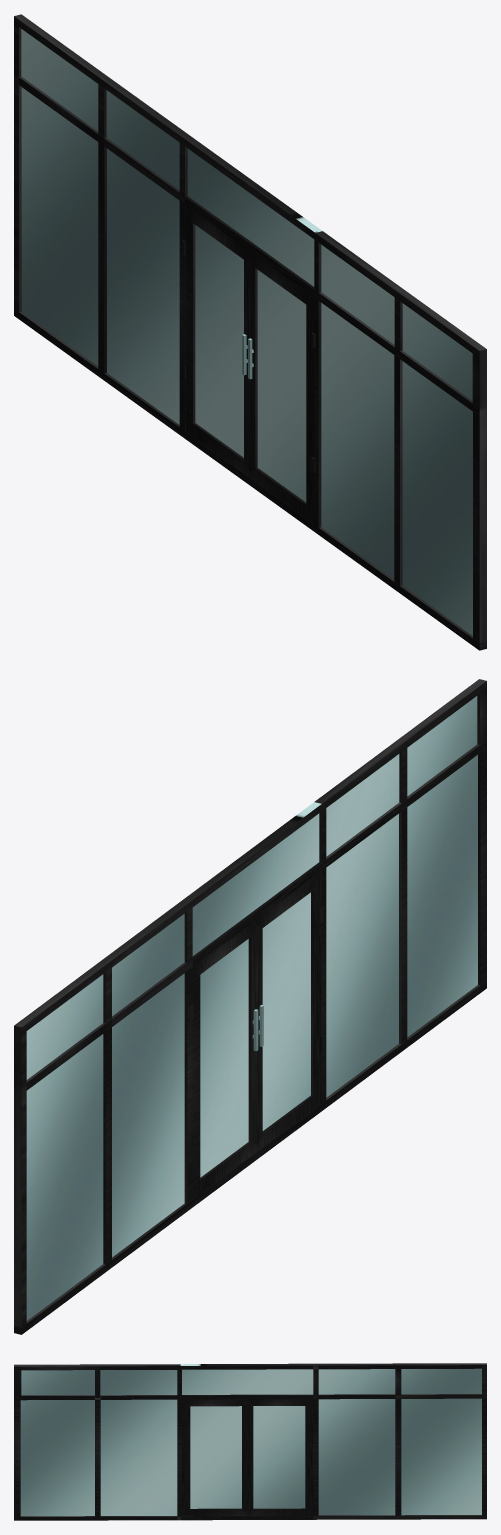
The model's file is tavern_glass_door_wall.fbx.
3 renders of one model, top to bottom at view 1: azimuth 30°, elevation 25°; view 2: azimuth 150°, elevation 25°; view 3: azimuth 270°, elevation 25°, orthographic. The views are drawn at different scales.
Parts seen in each view (by area): view 1: tavern_glass_door_wall; view 2: tavern_glass_door_wall; view 3: tavern_glass_door_wall.
Boxes of the visible parts, x1,y1,x2,y2 form: tavern_glass_door_wall: (14,14,486,650); tavern_glass_door_wall: (14,679,486,1334); tavern_glass_door_wall: (14,1363,486,1520).
Bounding box in the file's own units: 0.1245 × 2.59 × 7.19.
Materials: 1 (1 with a texture image).
